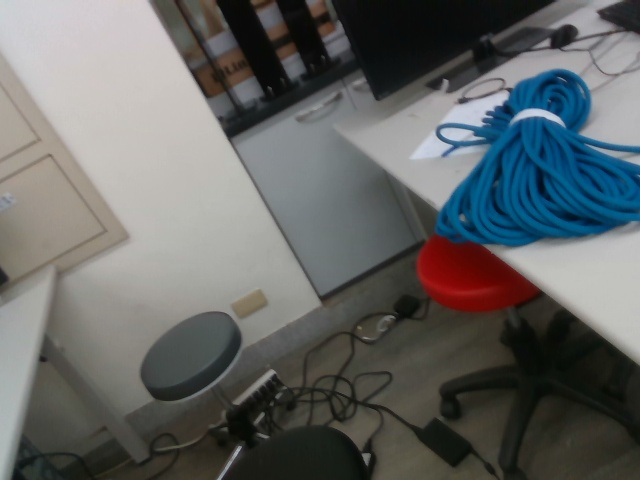rope: (432, 65, 640, 249)
